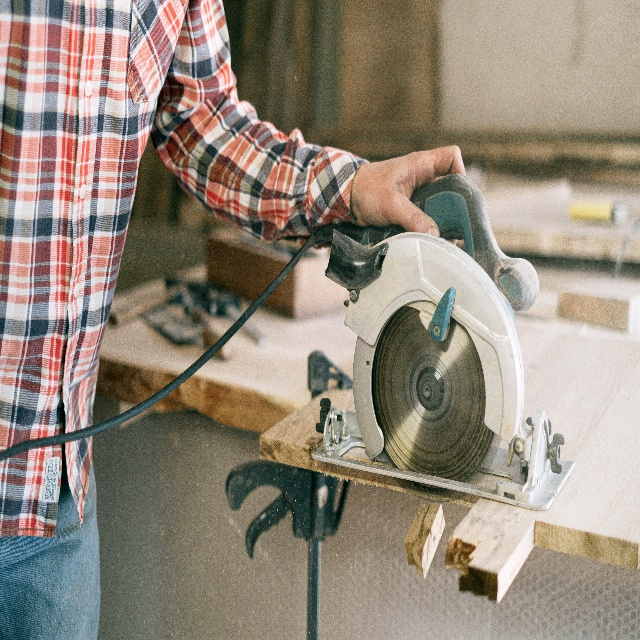Sin_guantes: (352, 145, 468, 239)
